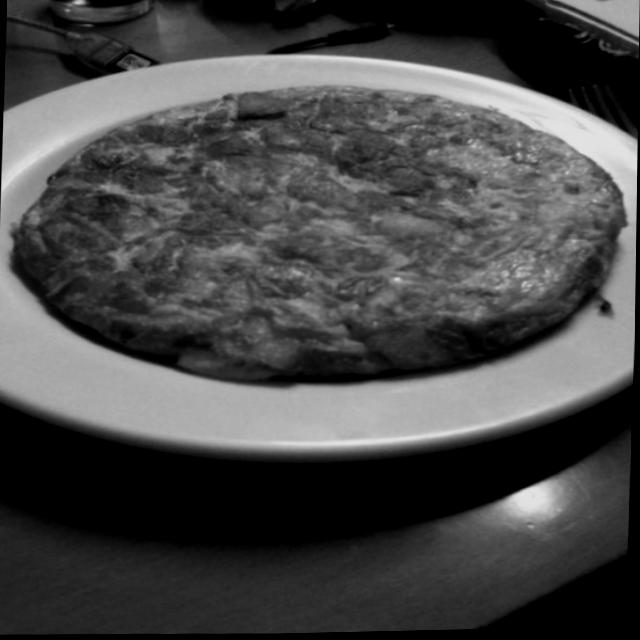面包点心: (16, 65, 611, 399)
